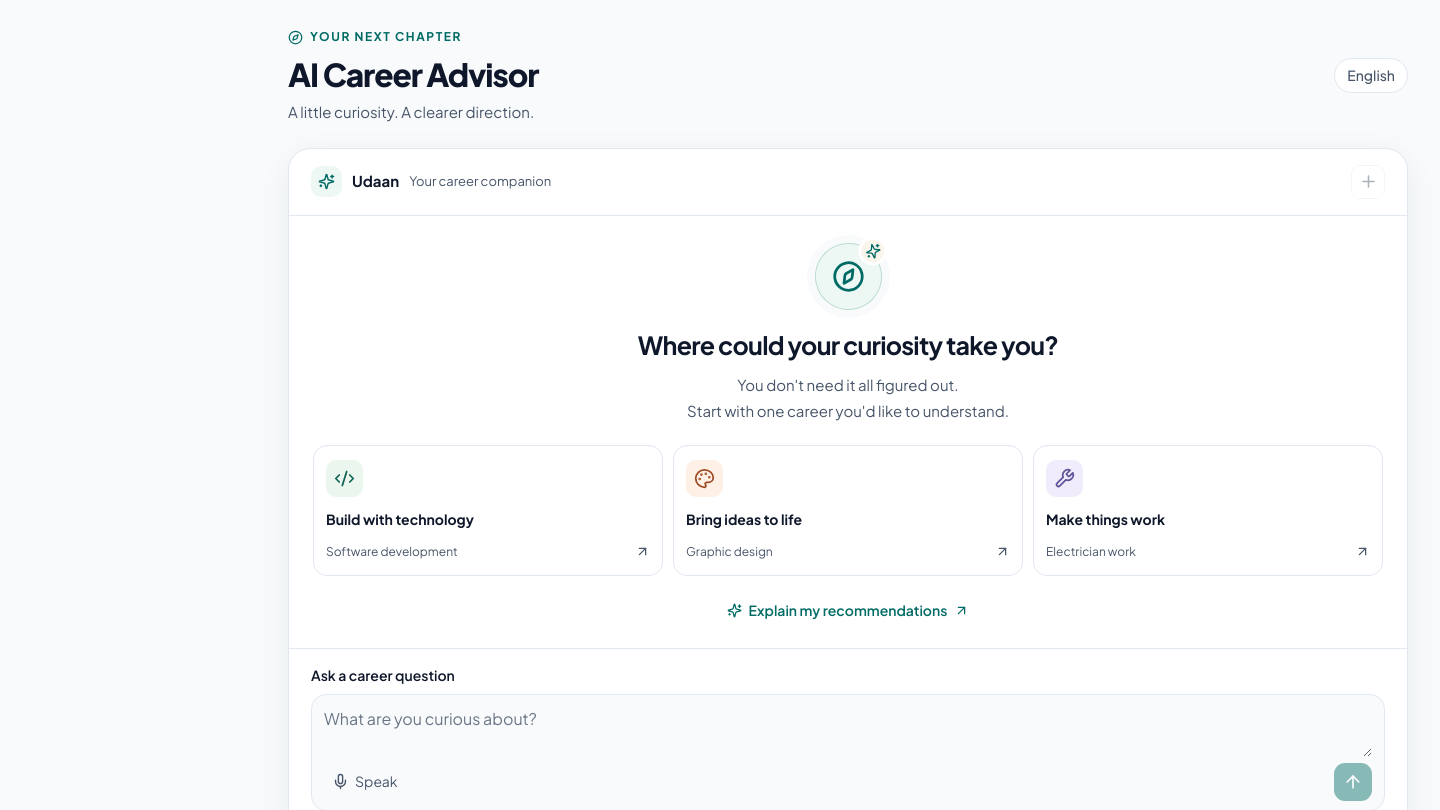
it: Career advisor › offers retry for a domain unavailable response but not missing evidence
Type "What does a developer do?" into the text box labelled "Ask a career question" at [848, 731], box [324, 706, 1372, 757]
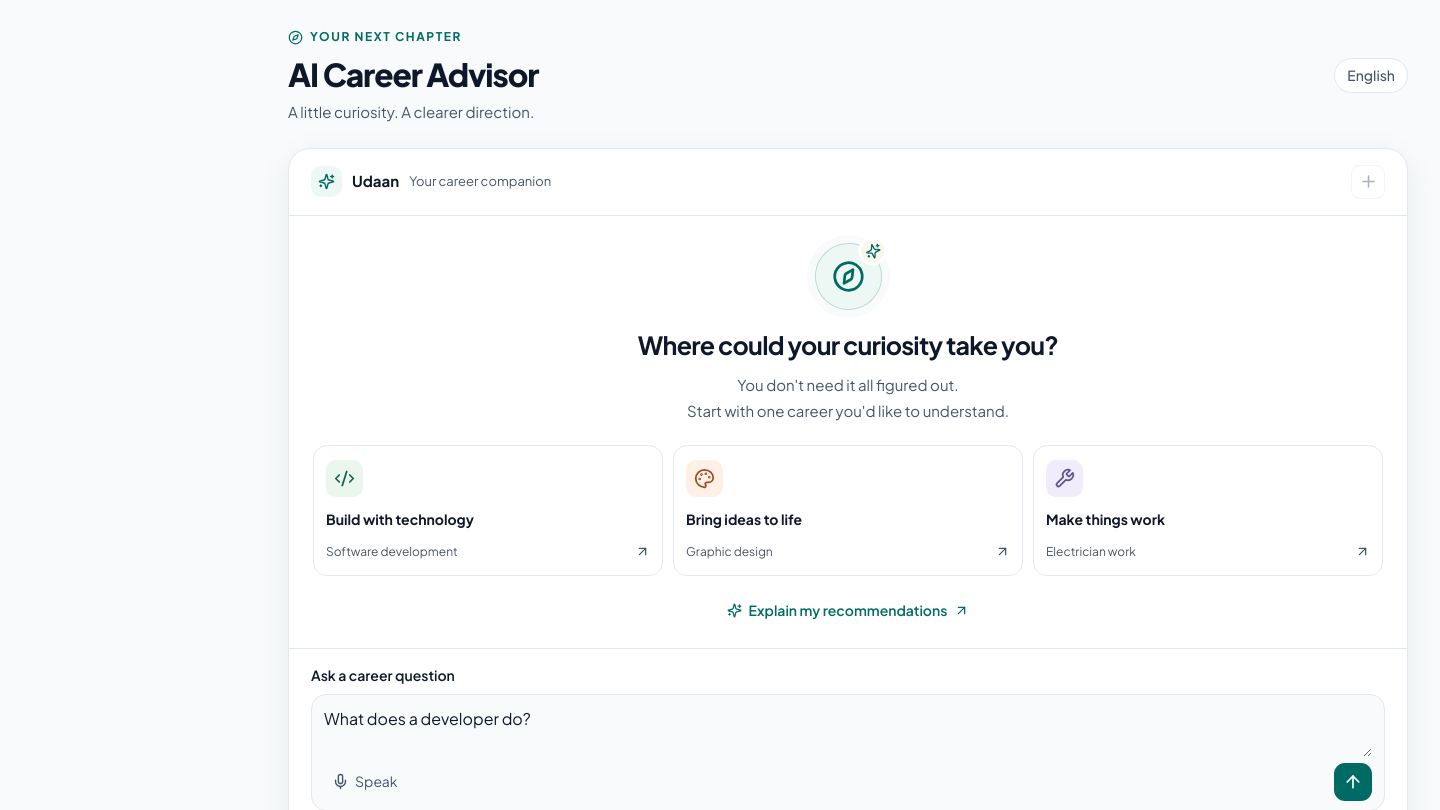
Click the button named "Ask Udaan" at [1353, 782], box [1334, 763, 1372, 801]
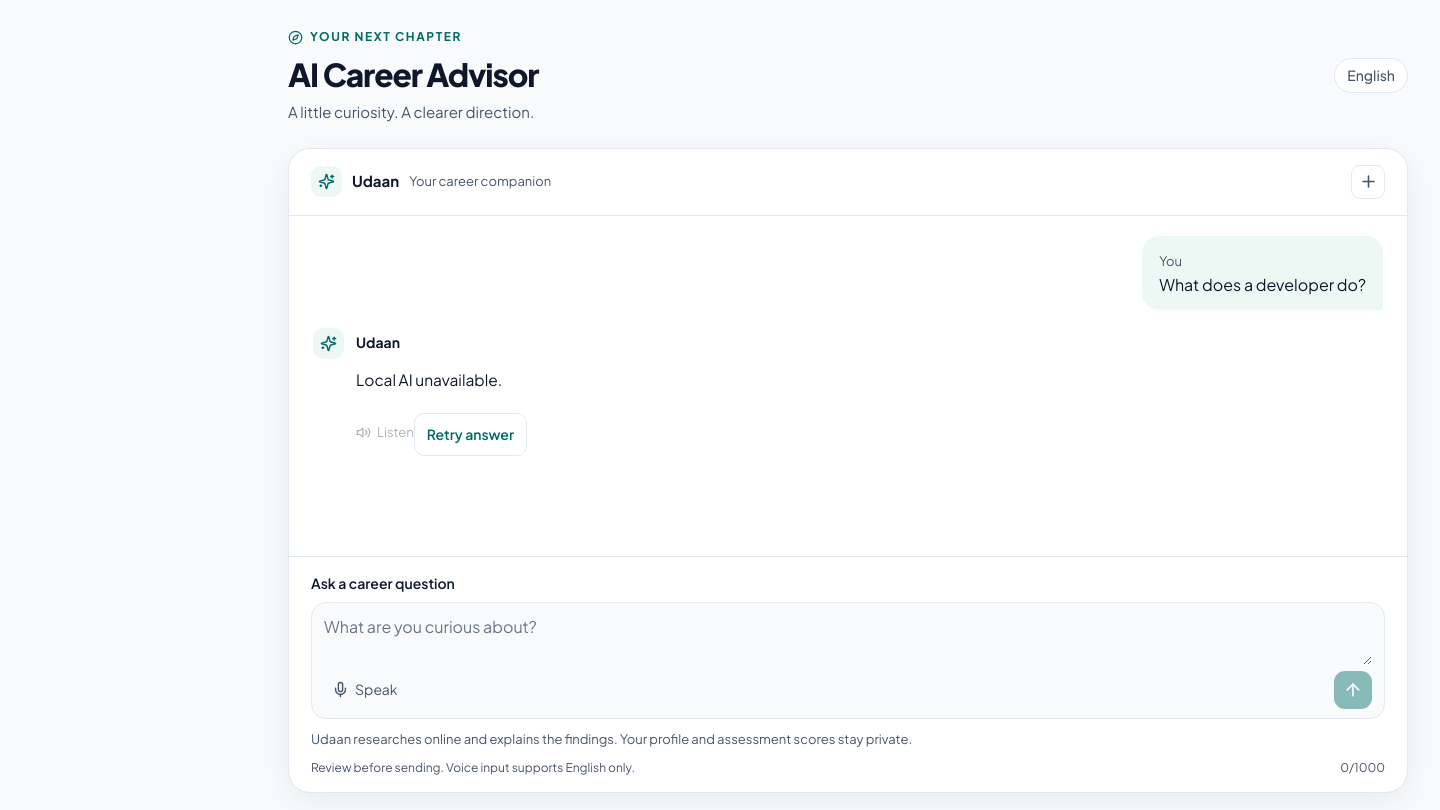
Click the button "Retry answer" at [470, 434], box [414, 413, 527, 456]
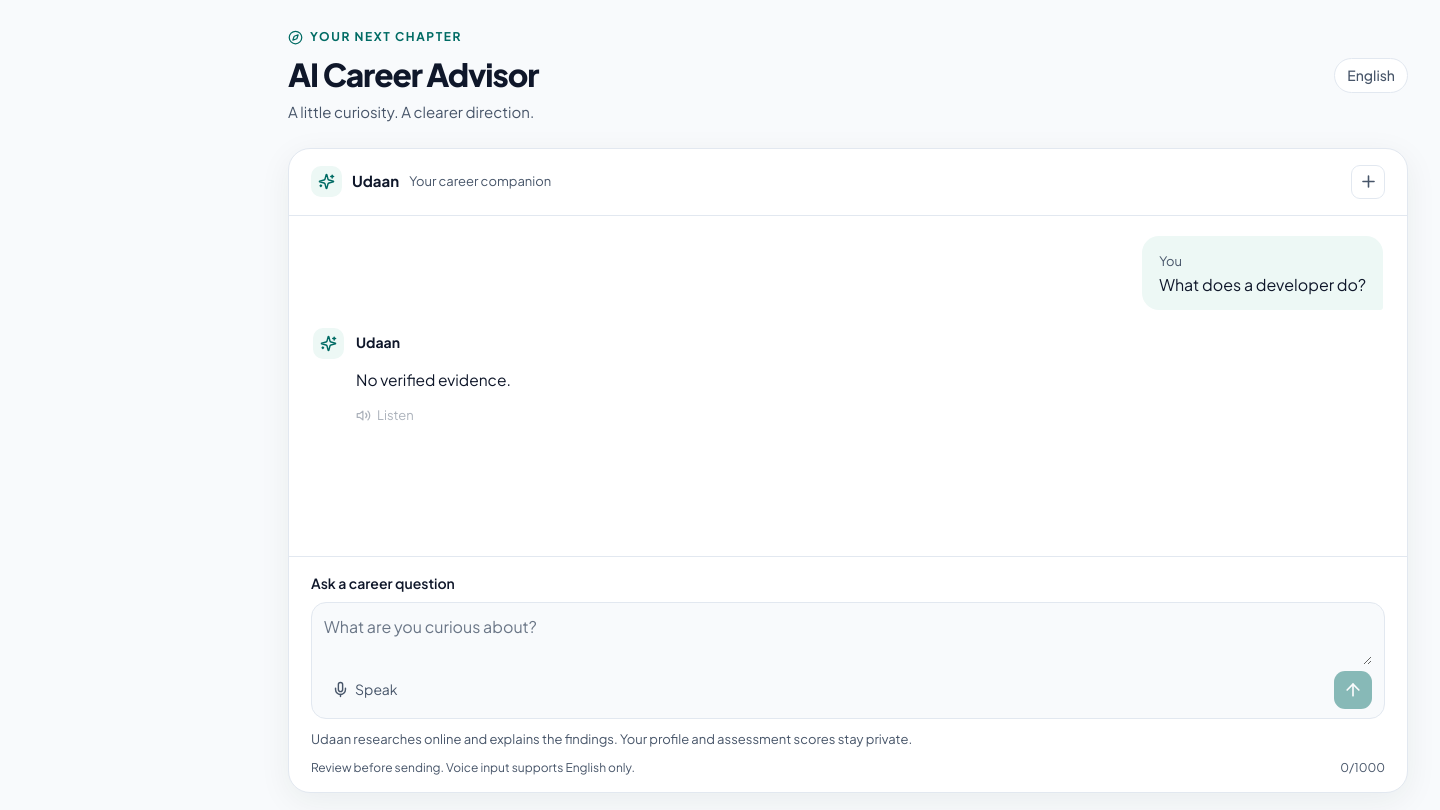
Expected: the text "No verified evidence." is shown, [356, 370, 511, 389]
Expected: the button "Retry answer" is gone
